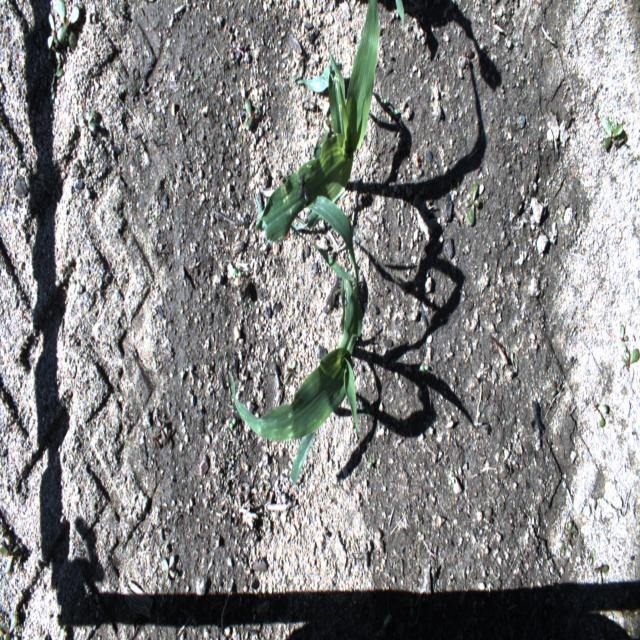crop: (228, 195, 363, 485), (254, 0, 380, 241), (395, 0, 404, 31)
weed: (56, 1, 79, 51), (601, 115, 628, 150), (44, 14, 62, 52), (464, 183, 479, 225), (0, 544, 20, 573), (558, 520, 578, 549), (244, 97, 259, 132), (592, 402, 610, 428), (78, 110, 97, 132), (2, 613, 18, 639), (621, 349, 640, 370), (50, 58, 64, 86), (163, 554, 176, 583), (594, 565, 609, 588), (284, 359, 296, 382), (155, 420, 167, 442), (620, 325, 628, 350), (418, 362, 430, 372), (366, 457, 375, 470), (590, 546, 596, 565), (232, 266, 241, 278), (229, 417, 236, 430), (380, 98, 387, 103)
